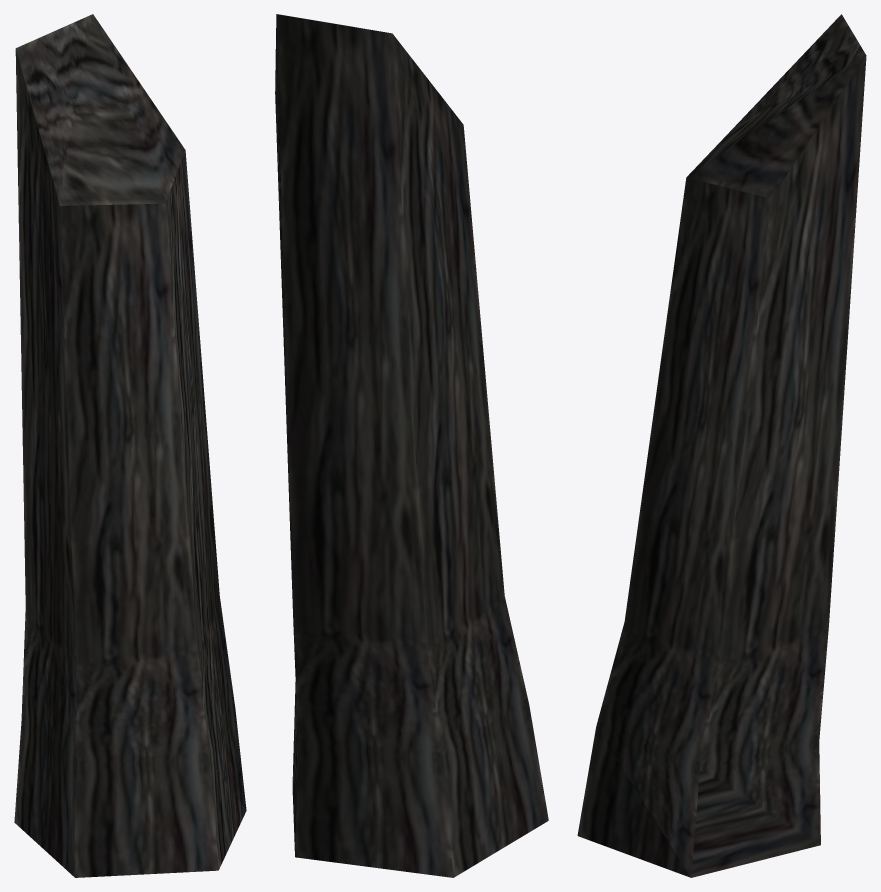
Rendered from burnt_tree_stump.fbx.
3 views of the same model, side by side, from view 1: azimuth 30°, elevation 25°; view 2: azimuth 150°, elevation 25°; view 3: azimuth 270°, elevation 25° (orthographic). The views are drawn at different scales.
Parts seen in each view (by area): view 1: lod_high; view 2: lod_high; view 3: lod_high.
Boxes of the visible parts, <box> form: lod_high: <box>14,14,246,877</box>; lod_high: <box>275,14,548,877</box>; lod_high: <box>577,14,866,877</box>.
Bounding box in the file's own units: 158 × 577 × 192.
Materials: 1 (1 with a texture image).
